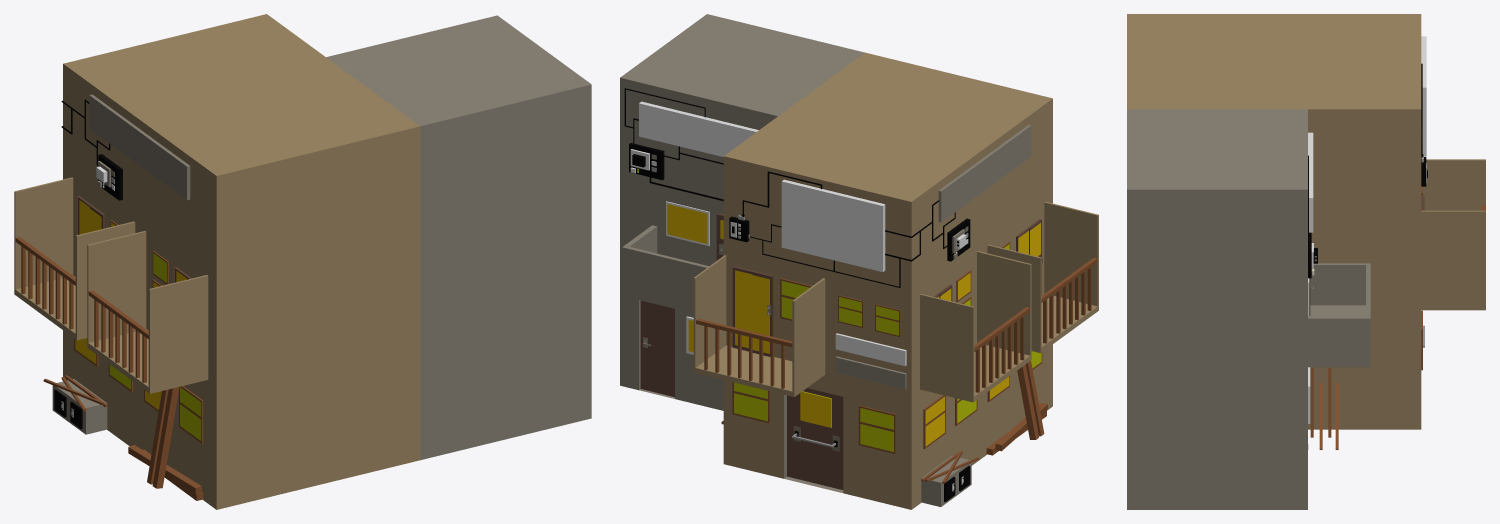
The model's file is Building A4.fbx.
3 renders of one model, left to right at view 1: azimuth 30°, elevation 25°; view 2: azimuth 150°, elevation 25°; view 3: azimuth 270°, elevation 25°, orthographic. The views are drawn at different scales.
Parts seen in each view (by area): view 1: Cube; view 2: Cube; view 3: Cube.
Boxes of the visible parts, x1=… form: Cube: x1=14, y1=14, x2=591, y2=509; Cube: x1=620, y1=14, x2=1098, y2=509; Cube: x1=1127, y1=14, x2=1485, y2=509.
Bounding box in the file's own units: 1635 × 1204 × 1223.
